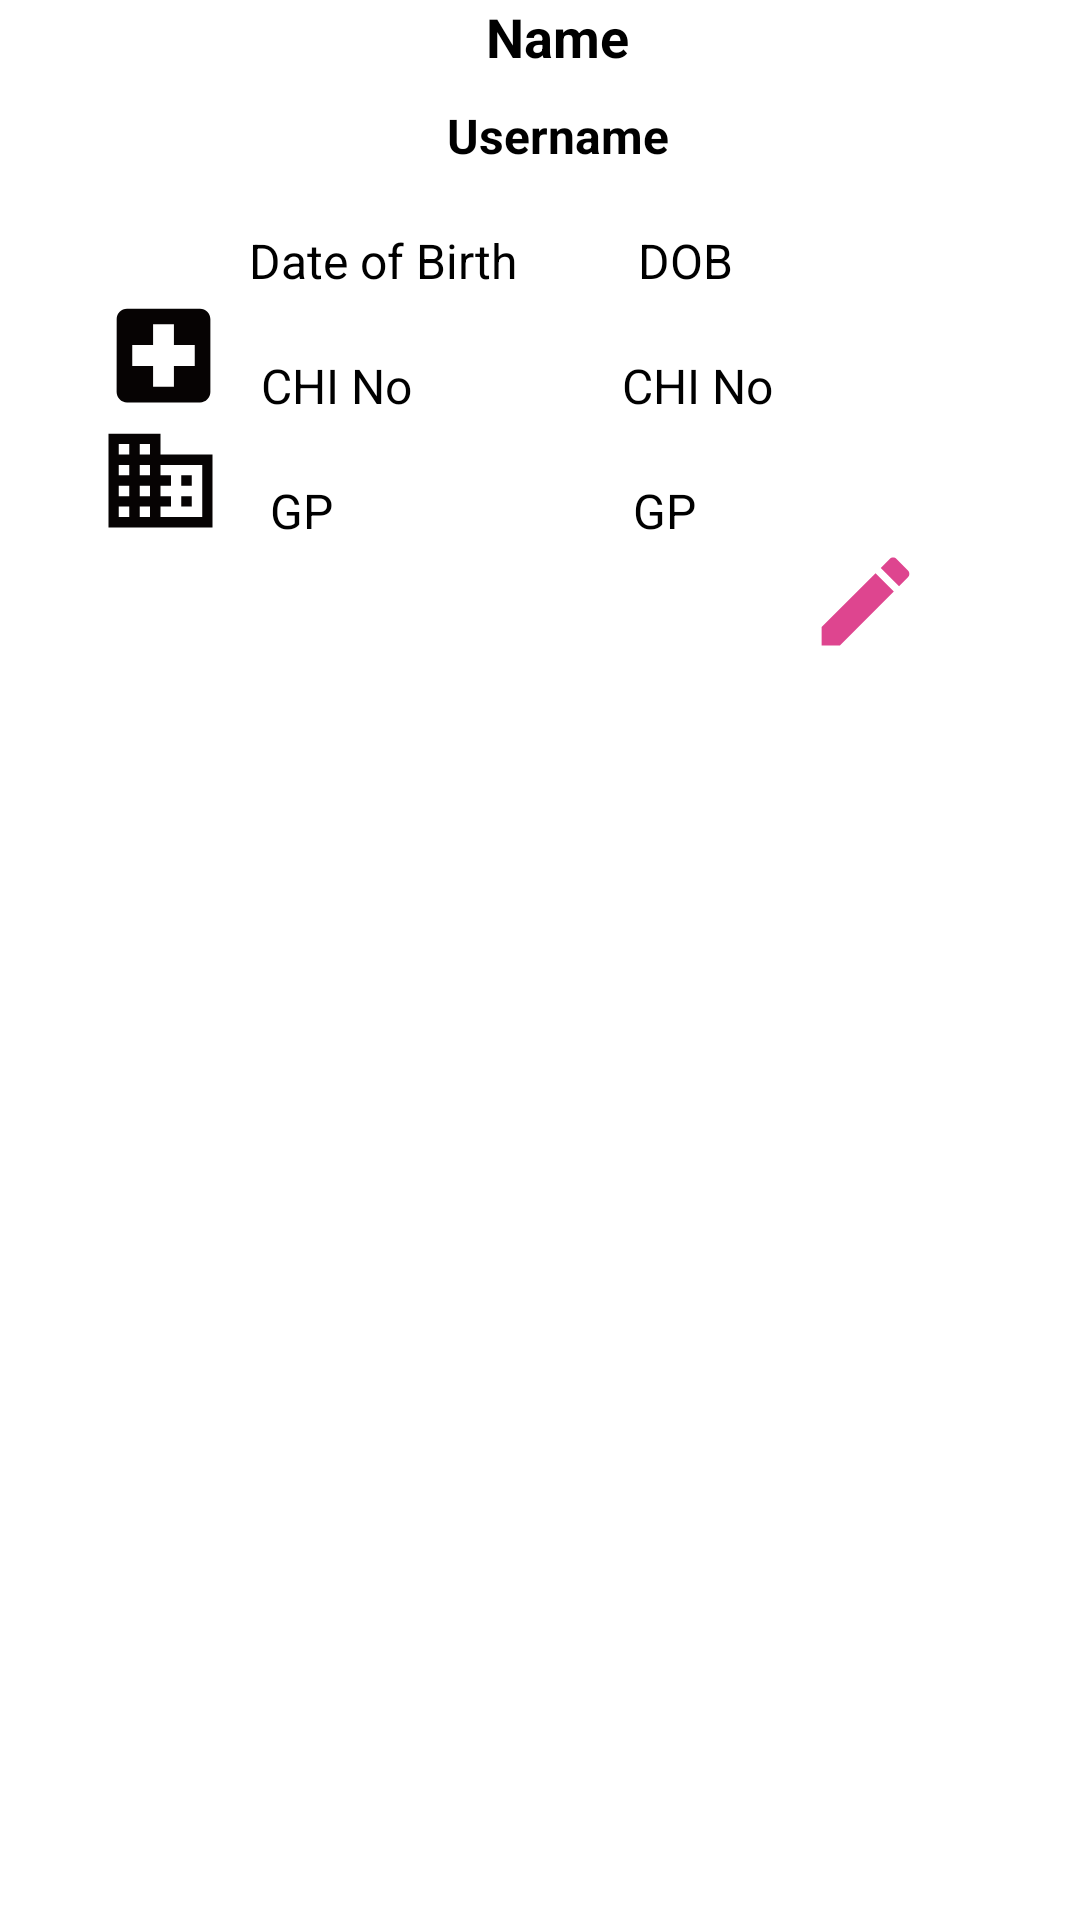

Screen size 1080w x 1920h. Icon name, then its center in pixels as point (x, y):
business: point (160, 480)
edit: point (865, 601)
local hospital: point (163, 355)
